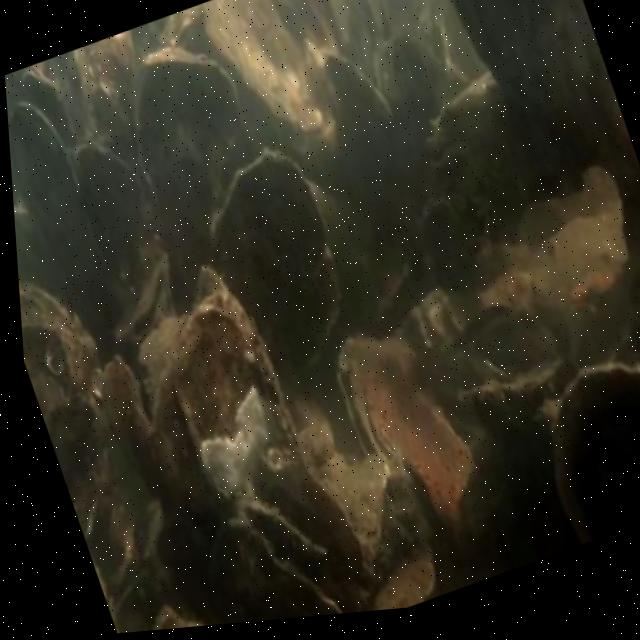Oyster-Closed: (333, 335, 484, 529), (327, 56, 393, 189), (74, 136, 143, 239), (22, 64, 78, 145), (415, 6, 450, 64), (157, 10, 204, 52)
Oyster-Indeterminate: (206, 146, 340, 386), (460, 0, 640, 173), (136, 47, 241, 259), (152, 312, 260, 516), (8, 98, 103, 304), (546, 361, 640, 545), (205, 0, 309, 122)
Oyster-Open: (212, 494, 348, 624), (115, 255, 173, 354)
